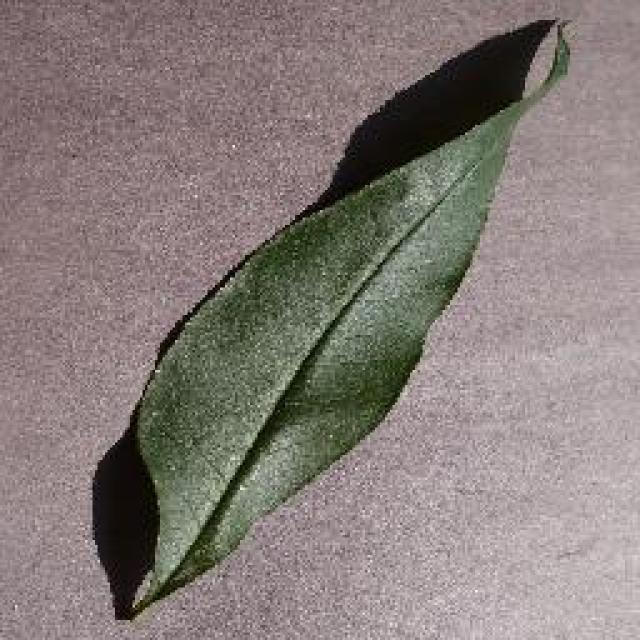Pea_healthy: (139, 85, 546, 497)
